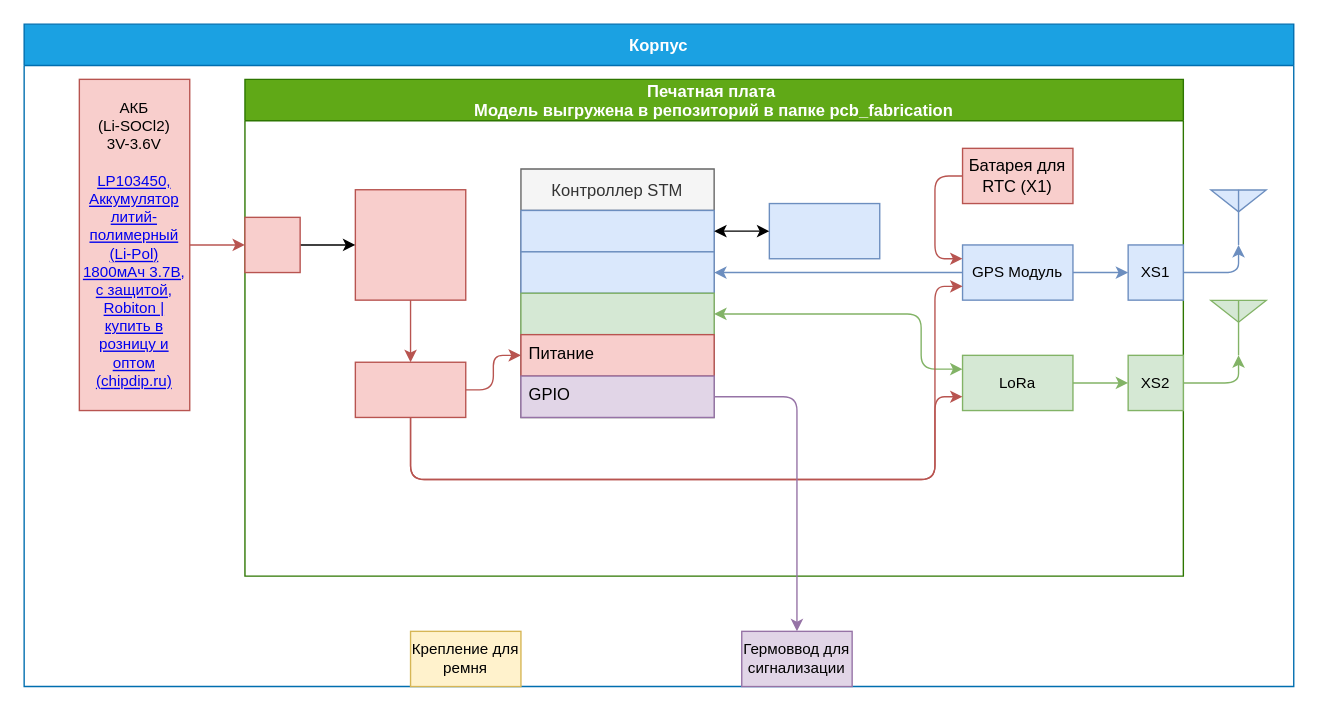
This 1318x711 diagram has some shape labels left out. The shapes that lost their labels are listed below. From the top down, each one's centre as x and y in pixels, then its label:
the point at 272,244: X3
the point at 410,244: Система контроля АКБ
the point at 617,230: UART2
the point at 824,230: Интерфейс для прошивки
the point at 617,271: UART1
the point at 617,313: SPI
the point at 410,389: DC-DC 3.3V (TPS63000)
